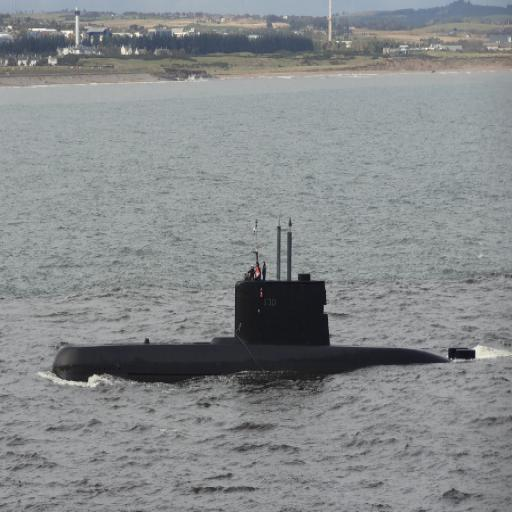submarine: (52, 278, 481, 384)
